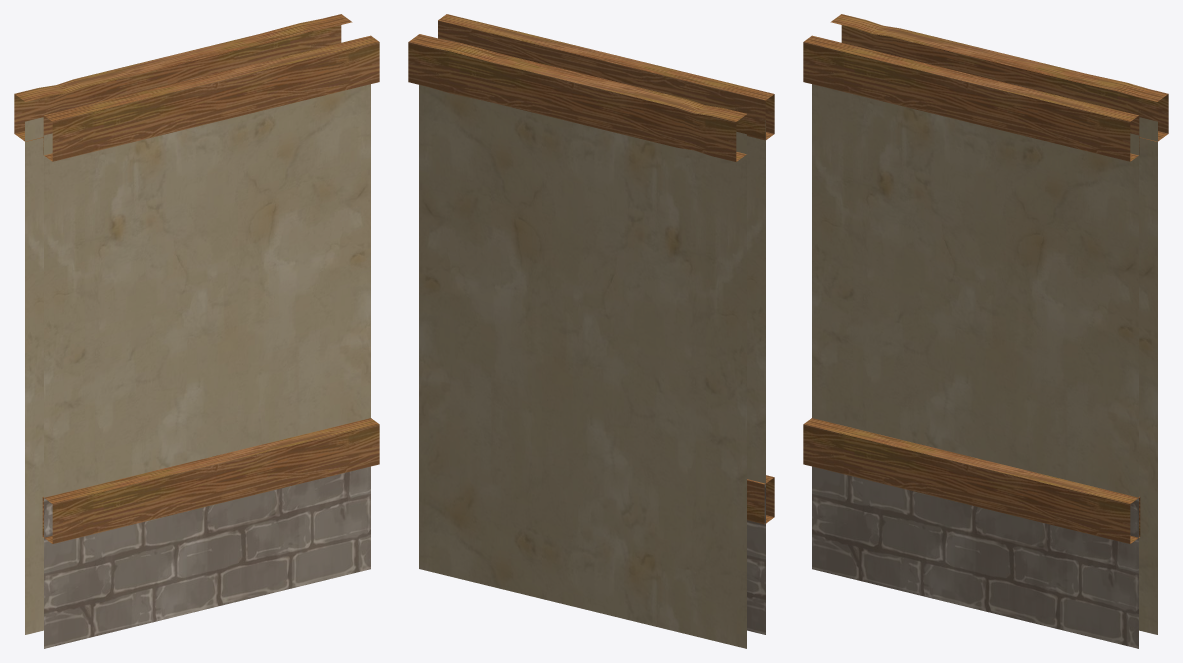
The model's file is wall_plaster_base.glb.
The picture shows the model from 3 angles, left to right: view 1: azimuth 30°, elevation 25°; view 2: azimuth 150°, elevation 25°; view 3: azimuth 330°, elevation 25°; orthographic projection.
Parts seen in each view (by area): view 1: Wall_Plaster_Straight_Base; view 2: Wall_Plaster_Straight_Base; view 3: Wall_Plaster_Straight_Base.
Part boxes in pixels (x1,y1,x2,y2): Wall_Plaster_Straight_Base: [14, 14, 379, 648]; Wall_Plaster_Straight_Base: [408, 14, 774, 648]; Wall_Plaster_Straight_Base: [803, 14, 1168, 648].
Bounding box in the file's own units: 2 × 3.12 × 0.4064.
3 materials, 3 textured.
